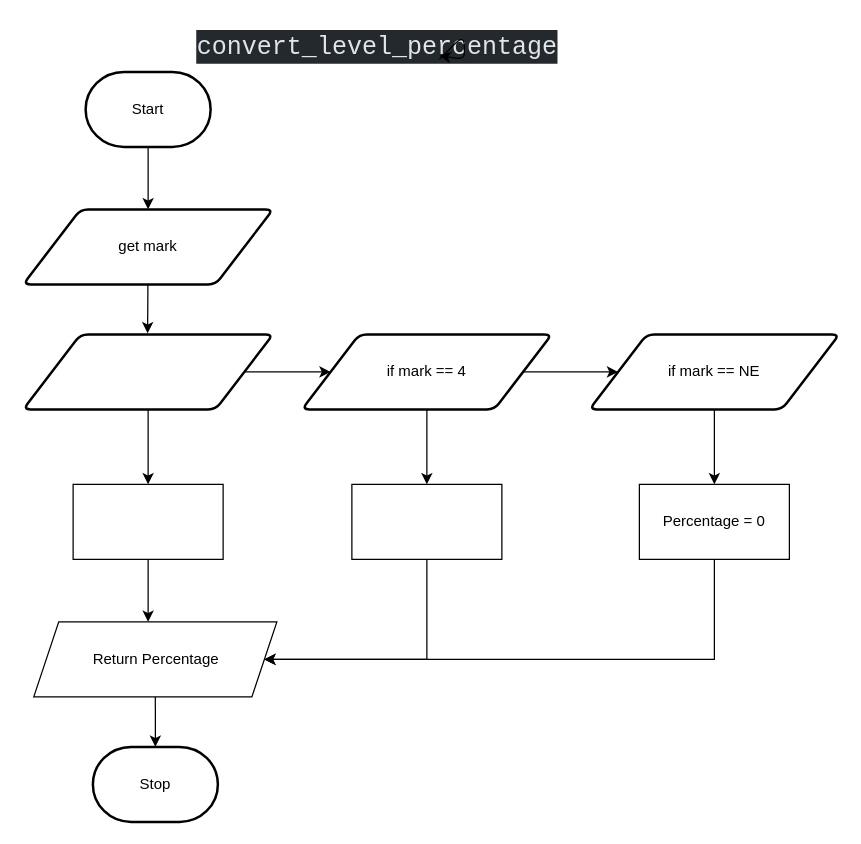
This 861x844 diagram has some shape labels left out. Each missing label, with the centre of its shape:
"if mark == 4+" belongs at (x=147, y=371).
"Percentage = 90" belongs at (x=426, y=521).
"Percentage = 97" belongs at (x=147, y=521).
